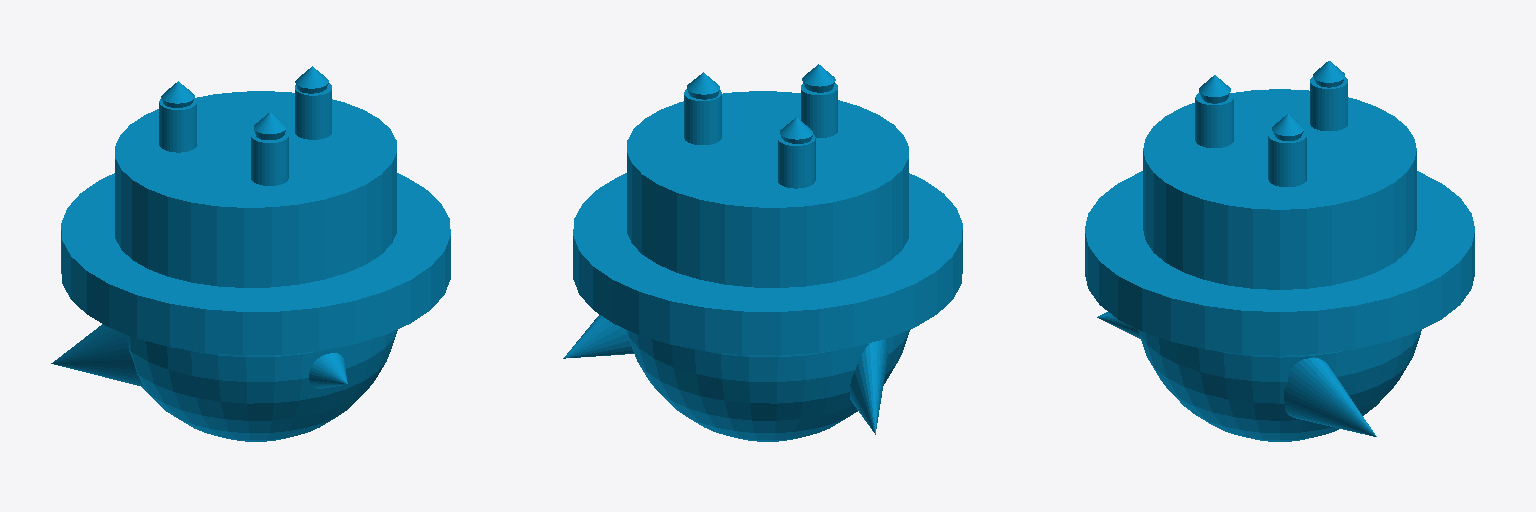
Rendered from enemy.obj.
3 views of the same model, side by side, from view 1: azimuth 30°, elevation 25°; view 2: azimuth 150°, elevation 25°; view 3: azimuth 270°, elevation 25° (orthographic).
Visible parts, largest first — view 1: 円柱; view 2: 円柱; view 3: 円柱.
Part boxes in pixels (x1,y1,x2,y2): 円柱: (51, 66, 450, 441); 円柱: (563, 64, 962, 441); 円柱: (1085, 61, 1474, 441).
Bounding box in the file's own units: 4 × 3.9 × 4.